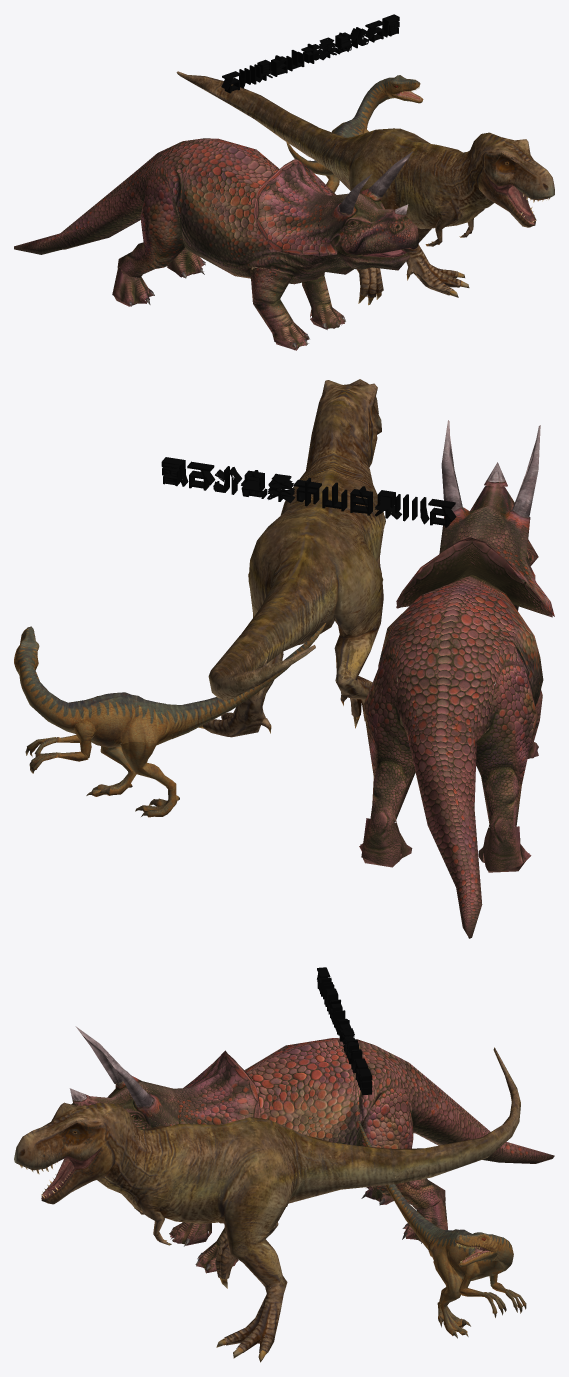
File: dino_log.glb
The picture shows the model from 3 angles, top to bottom: view 1: azimuth 30°, elevation 25°; view 2: azimuth 150°, elevation 25°; view 3: azimuth 270°, elevation 25°; orthographic projection. The views are drawn at different scales.
Visible parts, largest first — view 1: node_id81, node_id30, mesh_id92, node_id53; view 2: node_id81, node_id30, node_id53, mesh_id92; view 3: node_id30, node_id81, node_id53, mesh_id92.
Boxes of the visible parts, x1,y1,x2,y2 form: node_id81: [14, 138, 419, 350]; node_id30: [176, 71, 554, 305]; mesh_id92: [221, 14, 399, 93]; node_id53: [286, 75, 423, 192]; node_id81: [359, 420, 554, 938]; node_id30: [198, 379, 385, 737]; node_id53: [14, 623, 325, 817]; mesh_id92: [161, 457, 456, 527]; node_id30: [14, 1047, 520, 1362]; node_id81: [69, 1026, 554, 1273]; node_id53: [358, 1121, 526, 1338]; mesh_id92: [317, 967, 372, 1095].
Size of the model in its own units: 1.94 by 1.18 by 2.1.
Materials: 4 (4 with a texture image).
